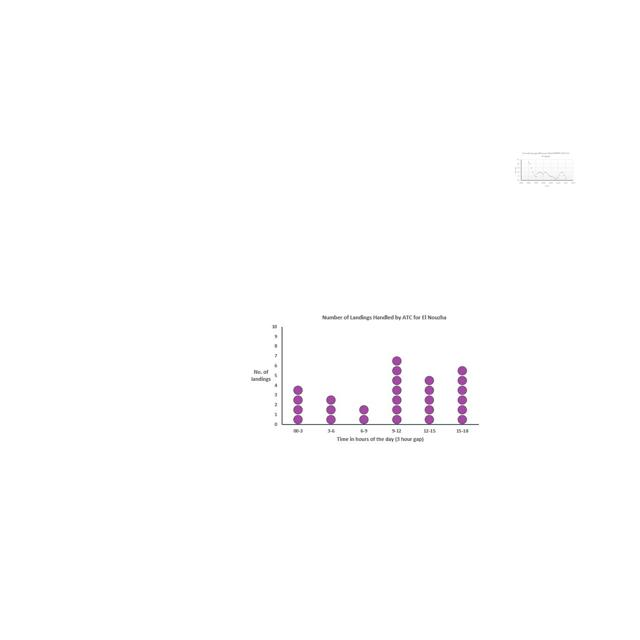Graph: (243, 309, 484, 448), (513, 151, 576, 188)
